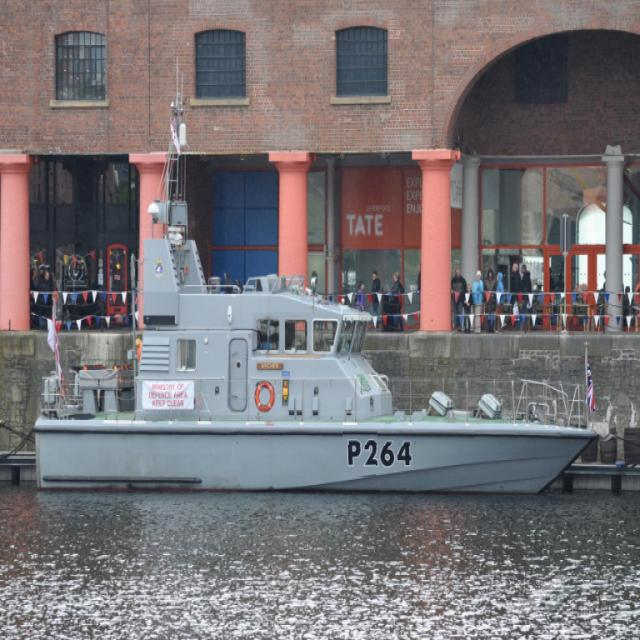OCR: (343, 432, 419, 478)
